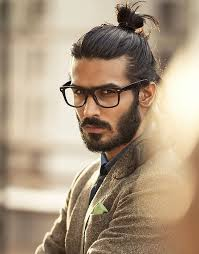b.y: (80, 117, 112, 153)
